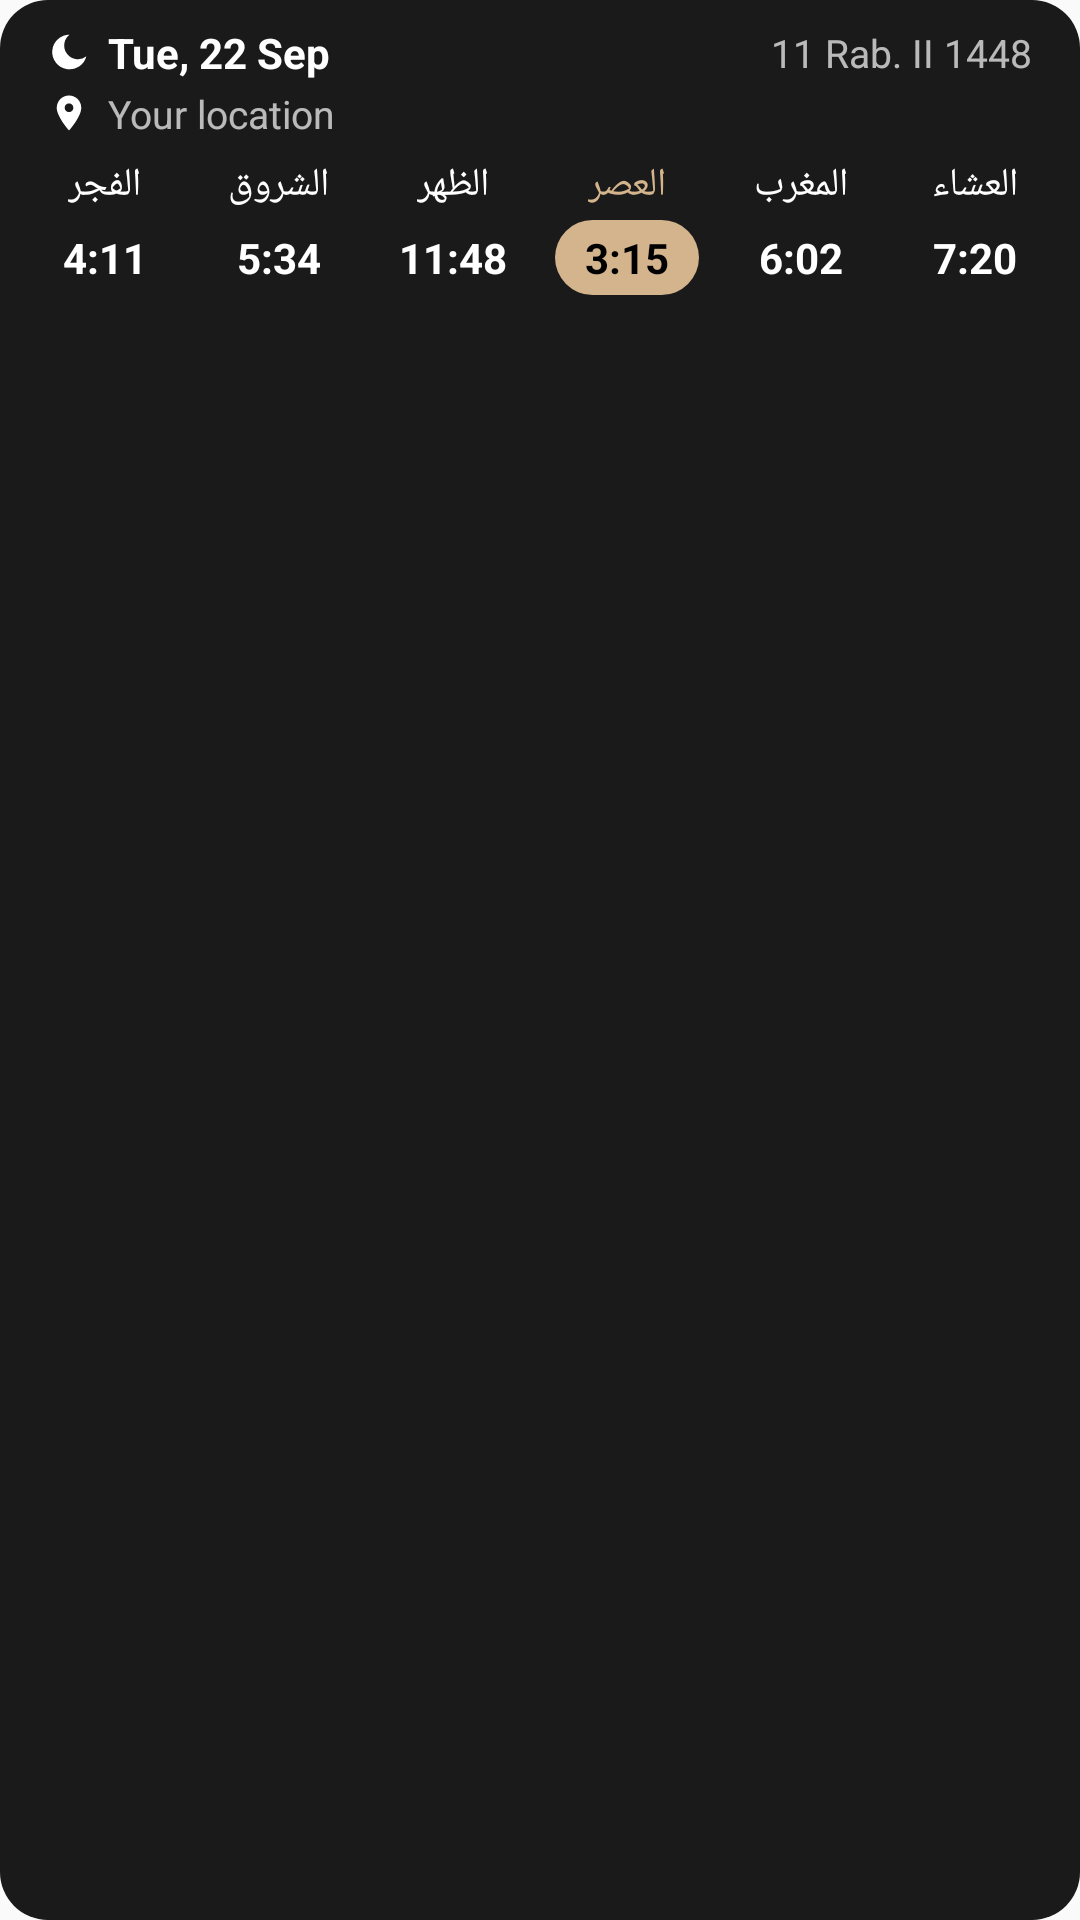

Icon bounding boxes for this 1080 × 1920 phone screenshot, format (x1, y1, x2, y2):
widget moon: (52, 34, 87, 70)
widget pin: (56, 95, 82, 130)
